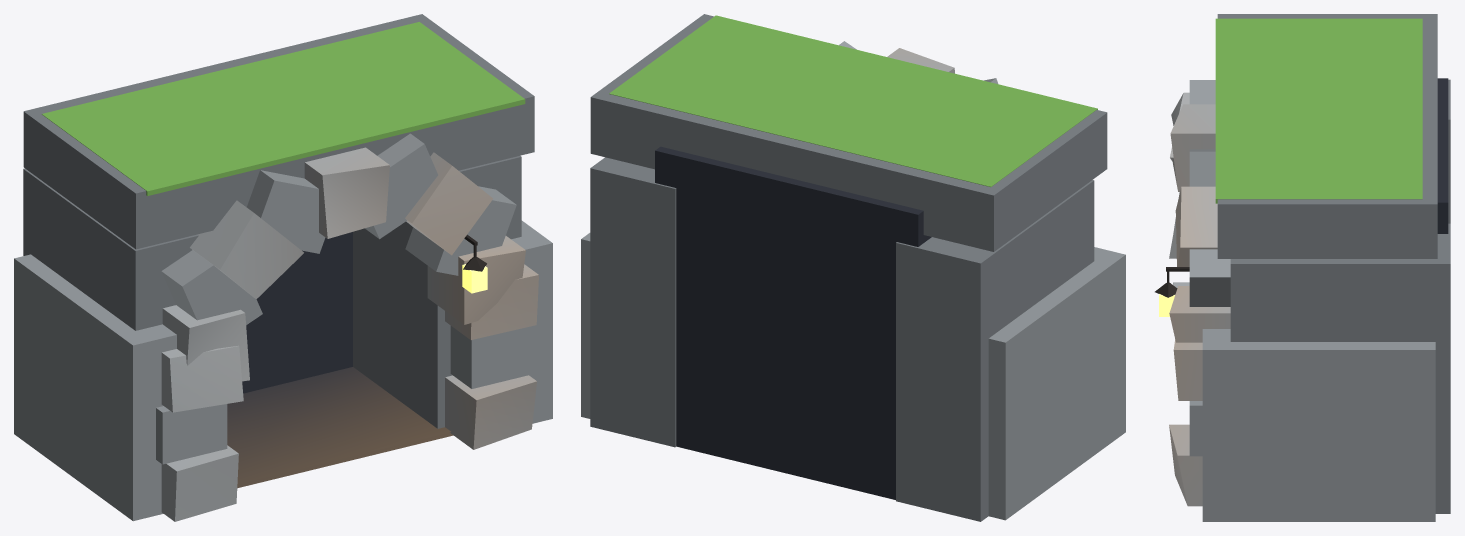
The model's file is cave-arch.glb.
3 renders of one model, left to right at view 1: azimuth 30°, elevation 25°; view 2: azimuth 150°, elevation 25°; view 3: azimuth 270°, elevation 25°, orthographic. The views are drawn at different scales.
Parts seen in each view (by area): view 1: cave-arch; view 2: cave-arch; view 3: cave-arch.
Boxes of the visible parts, <box> form: cave-arch: <box>14,14,552,521</box>; cave-arch: <box>581,14,1125,521</box>; cave-arch: <box>1155,14,1450,521</box>.
Size of the model in its own units: 11 by 8.01 by 6.87.
